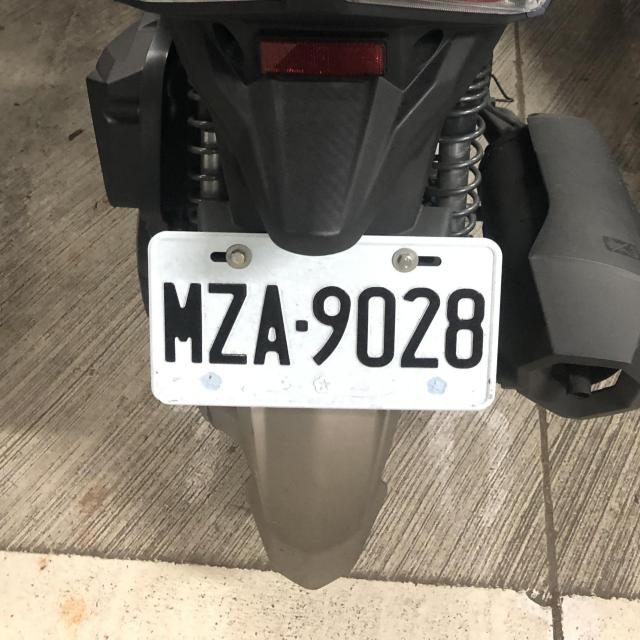W: (142, 225, 507, 418)
